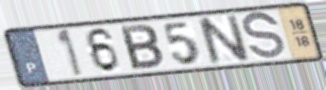1: (55, 27, 86, 79)
5: (163, 19, 203, 67)
6: (85, 27, 122, 74)
B: (118, 23, 166, 73)
N: (194, 12, 253, 67)
S: (241, 9, 288, 63)
